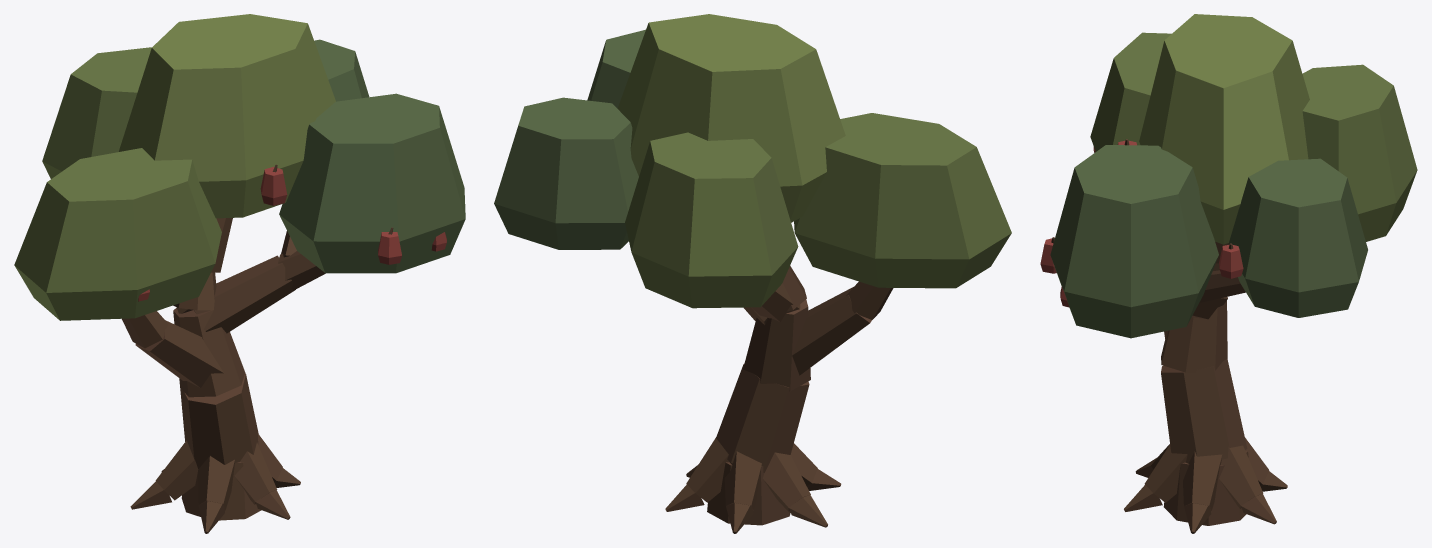
The model's file is orchard-apple-healthy.glb.
3 renders of one model, left to right at view 1: azimuth 30°, elevation 25°; view 2: azimuth 150°, elevation 25°; view 3: azimuth 270°, elevation 25°, orthographic. The views are drawn at different scales.
Parts seen in each view (by area): view 1: Orchard apple · healthy; view 2: Orchard apple · healthy; view 3: Orchard apple · healthy.
Part boxes in pixels (x1,y1,x2,y2): Orchard apple · healthy: (14, 14, 465, 533); Orchard apple · healthy: (494, 14, 1011, 533); Orchard apple · healthy: (1040, 14, 1417, 533).
Bounding box in the file's own units: 1.98 × 2.05 × 1.51.
